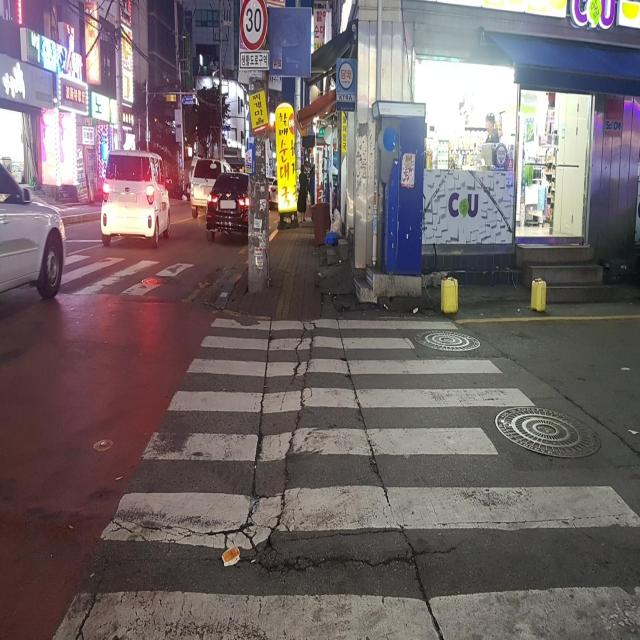횡단보도: (44, 310, 640, 640), (57, 253, 195, 294)
